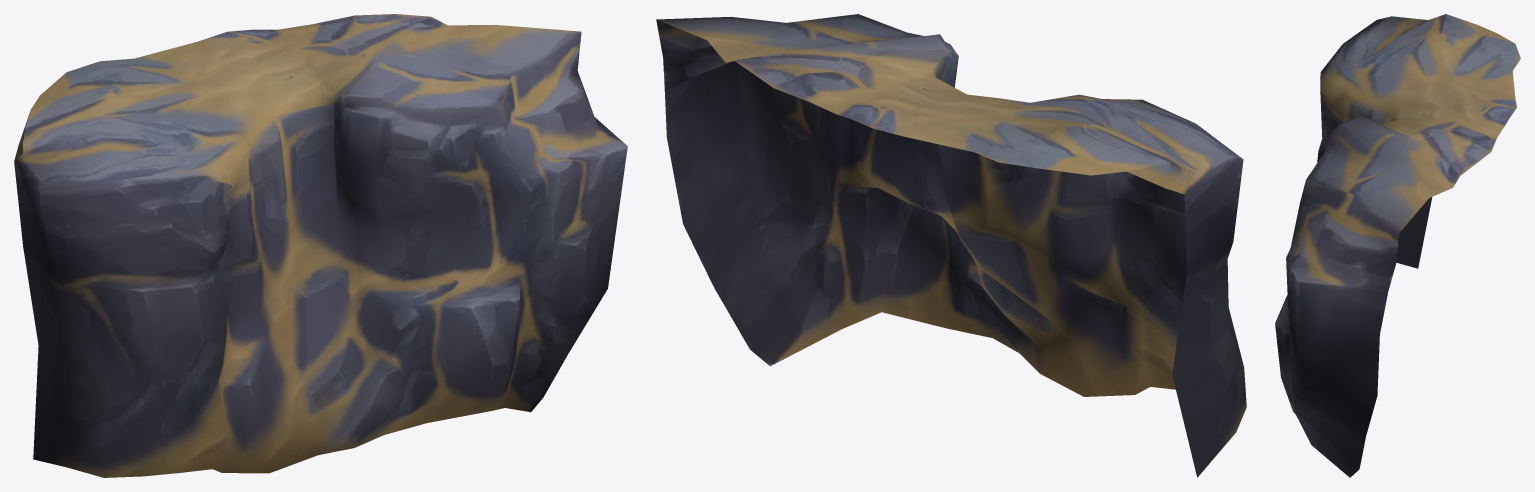
File: scene_malujiakuangdao_shan08.FBX
3 views of the same model, side by side, from view 1: azimuth 30°, elevation 25°; view 2: azimuth 150°, elevation 25°; view 3: azimuth 270°, elevation 25° (orthographic). The views are drawn at different scales.
Parts seen in each view (by area): view 1: scene_malujiakuangdao_shan08; view 2: scene_malujiakuangdao_shan08; view 3: scene_malujiakuangdao_shan08.
Boxes of the visible parts, bbox=[...] form: scene_malujiakuangdao_shan08: bbox=[14, 14, 627, 477]; scene_malujiakuangdao_shan08: bbox=[656, 14, 1246, 477]; scene_malujiakuangdao_shan08: bbox=[1275, 14, 1520, 477].
Size of the model in its own units: 2152 by 1349 by 1007.
